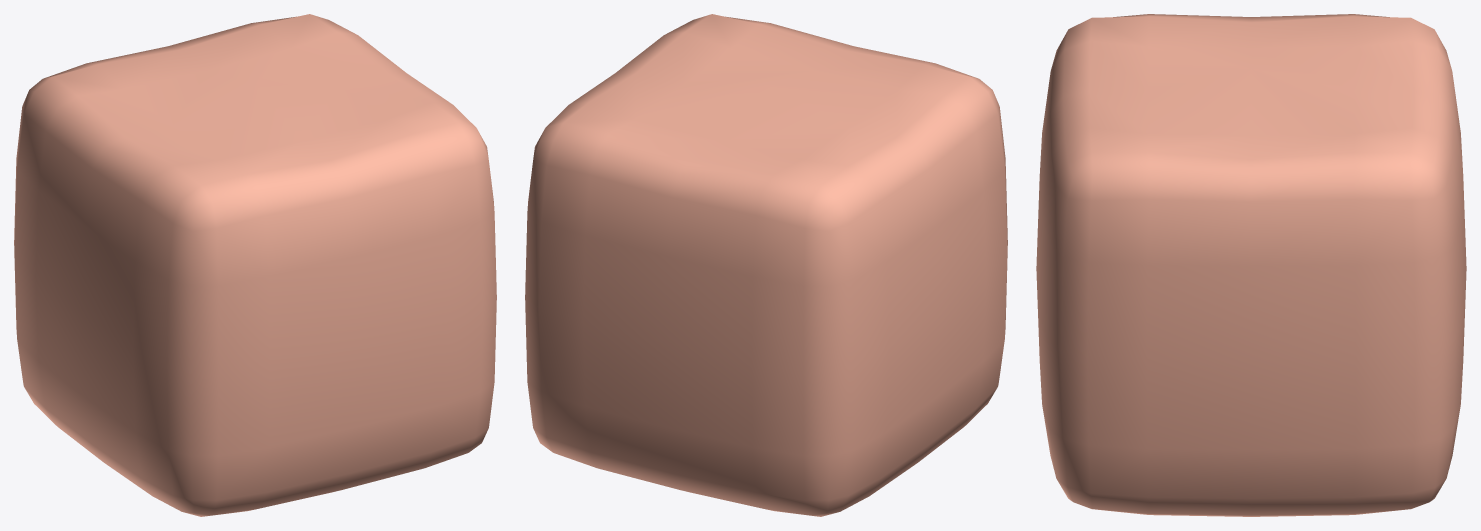
File: voxel_jelly.glb
The picture shows the model from 3 angles, left to right: view 1: azimuth 30°, elevation 25°; view 2: azimuth 150°, elevation 25°; view 3: azimuth 270°, elevation 25°; orthographic projection. The views are drawn at different scales.
Parts seen in each view (by area): view 1: Voxel_Jelly; view 2: Voxel_Jelly; view 3: Voxel_Jelly.
Part boxes in pixels (bbox=[...]): Voxel_Jelly: bbox=[14, 14, 496, 516]; Voxel_Jelly: bbox=[525, 14, 1007, 516]; Voxel_Jelly: bbox=[1036, 14, 1466, 516].
Bounding box in the file's own units: 0.9705 × 0.9683 × 0.9705.
